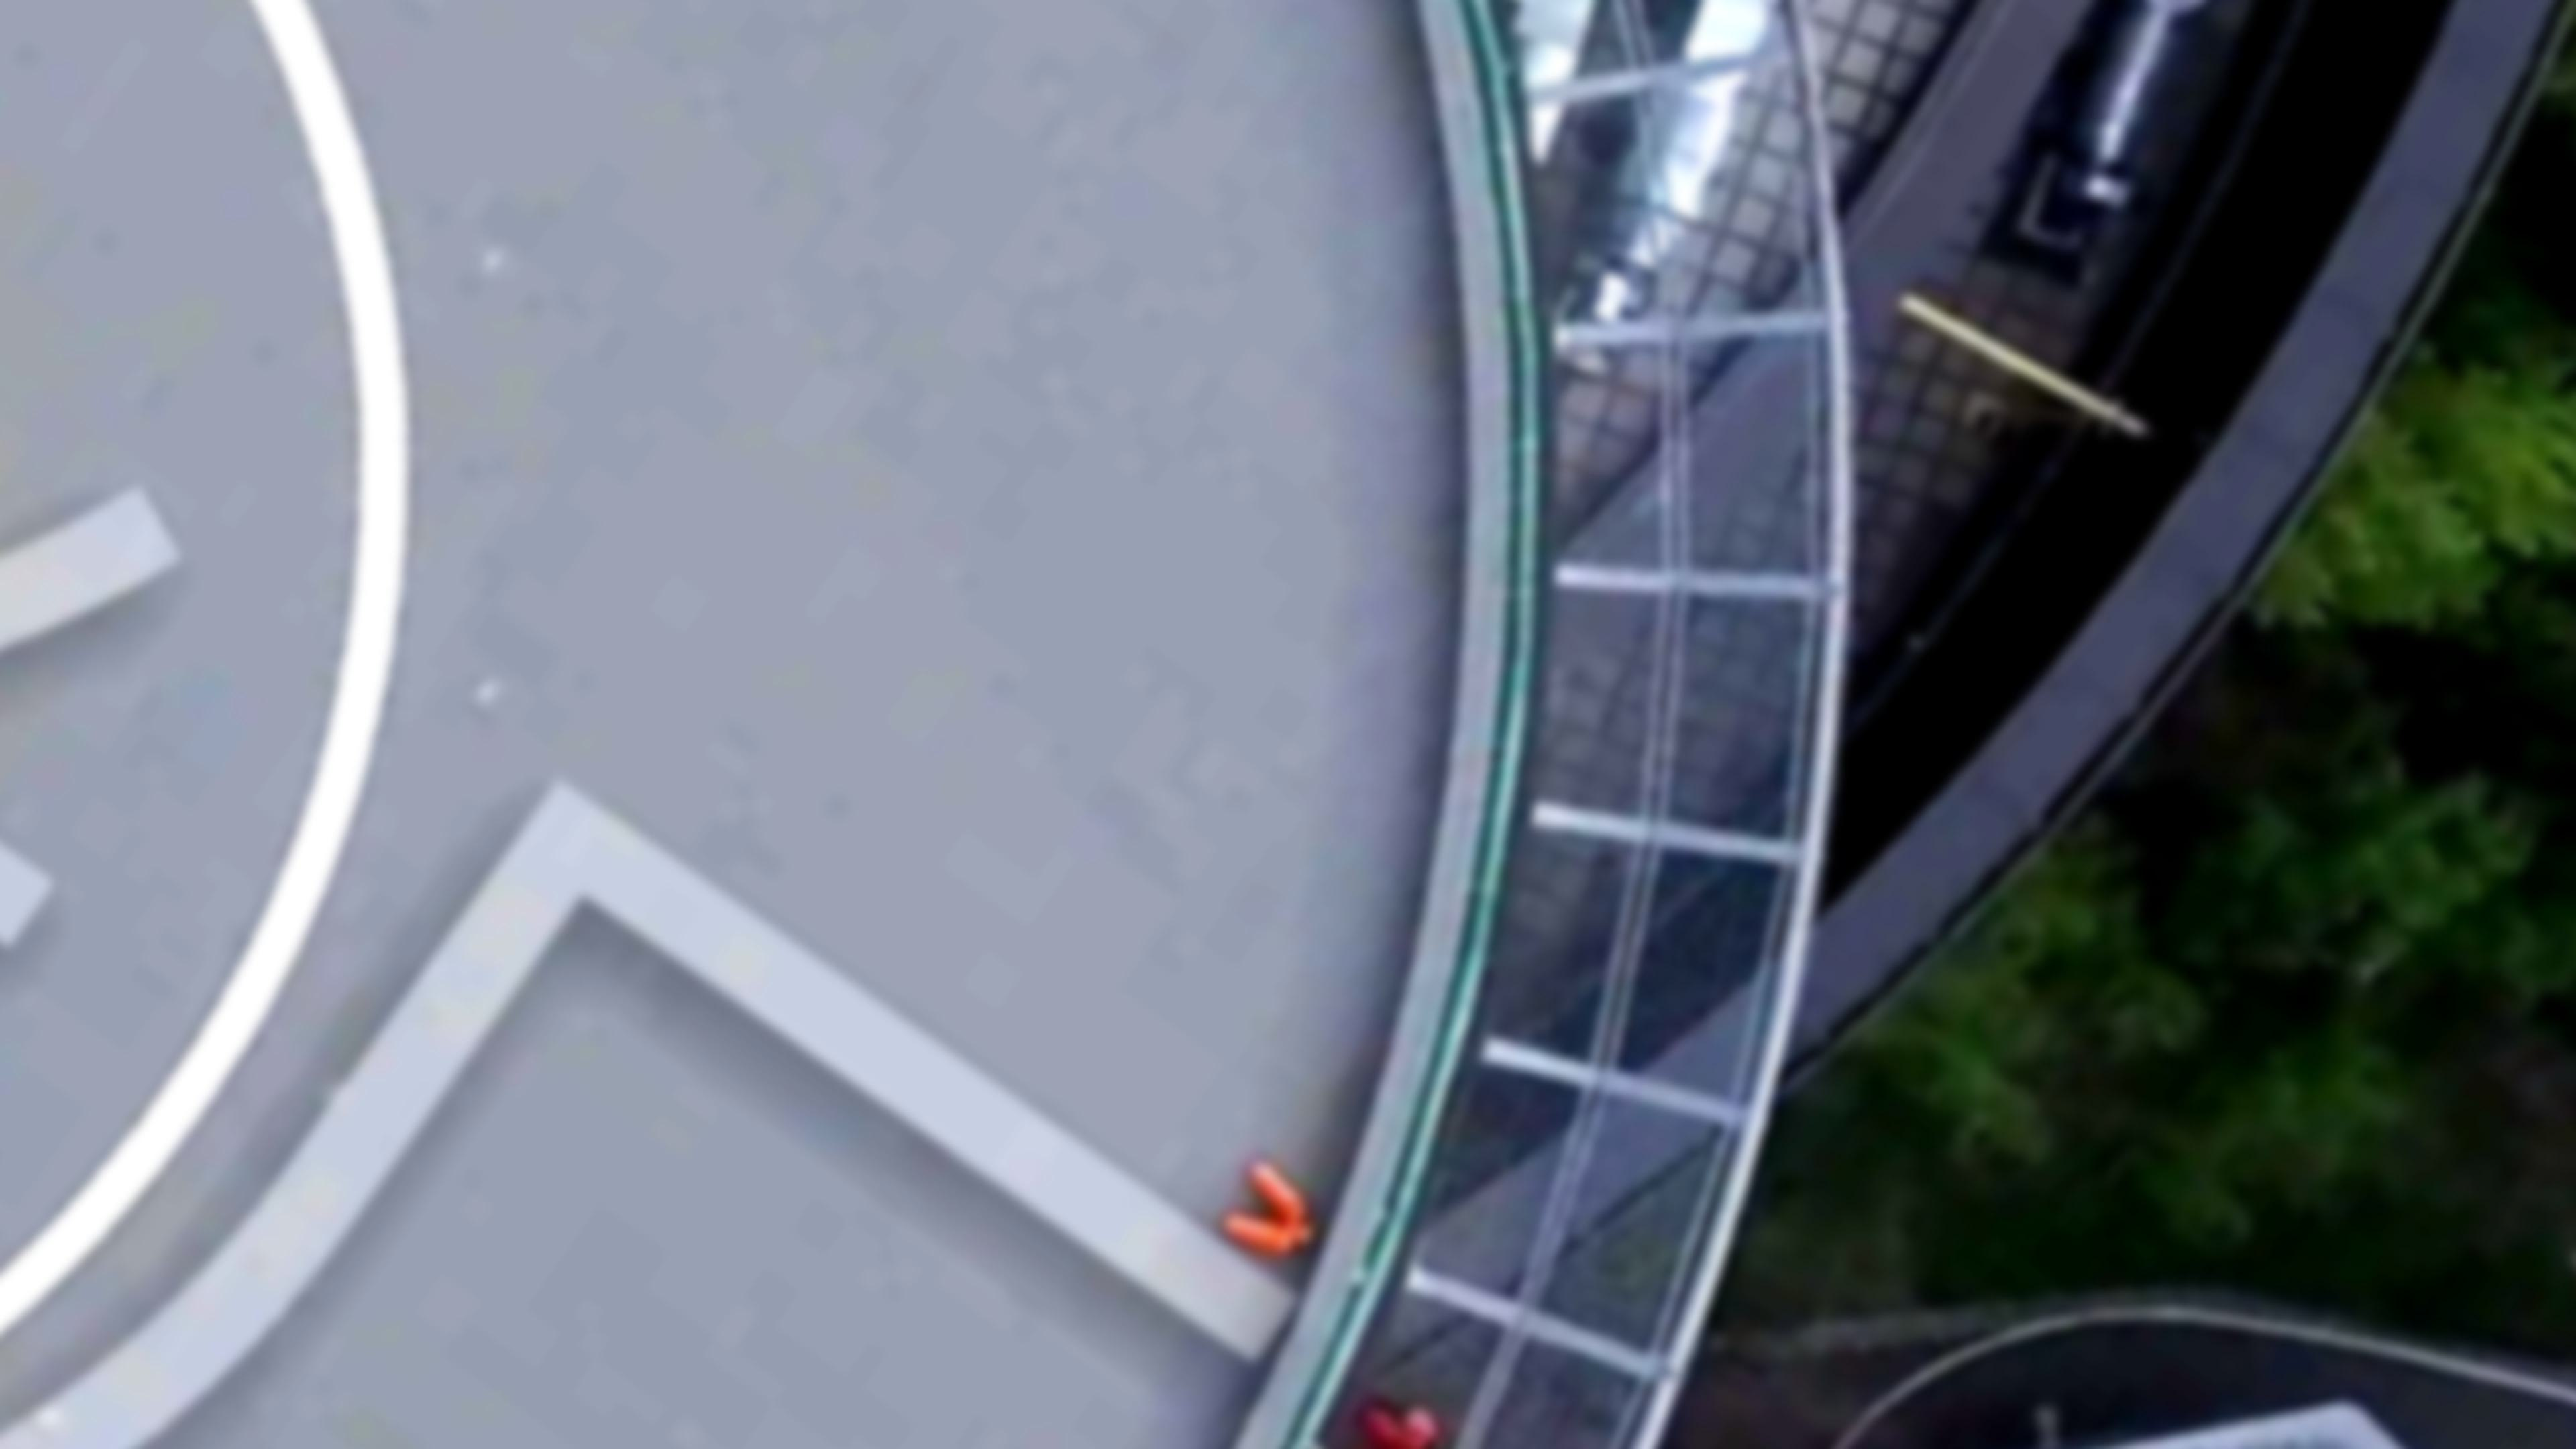Apron: (0, 0, 377, 1362)
